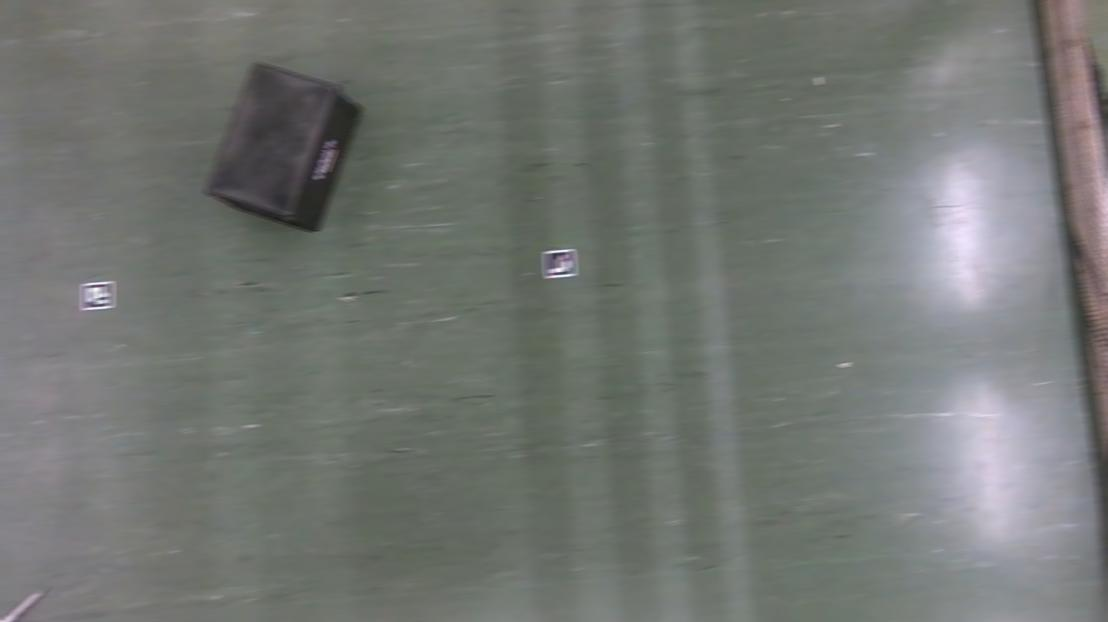probes: (0, 586, 46, 622)
rako: (202, 61, 362, 233)
